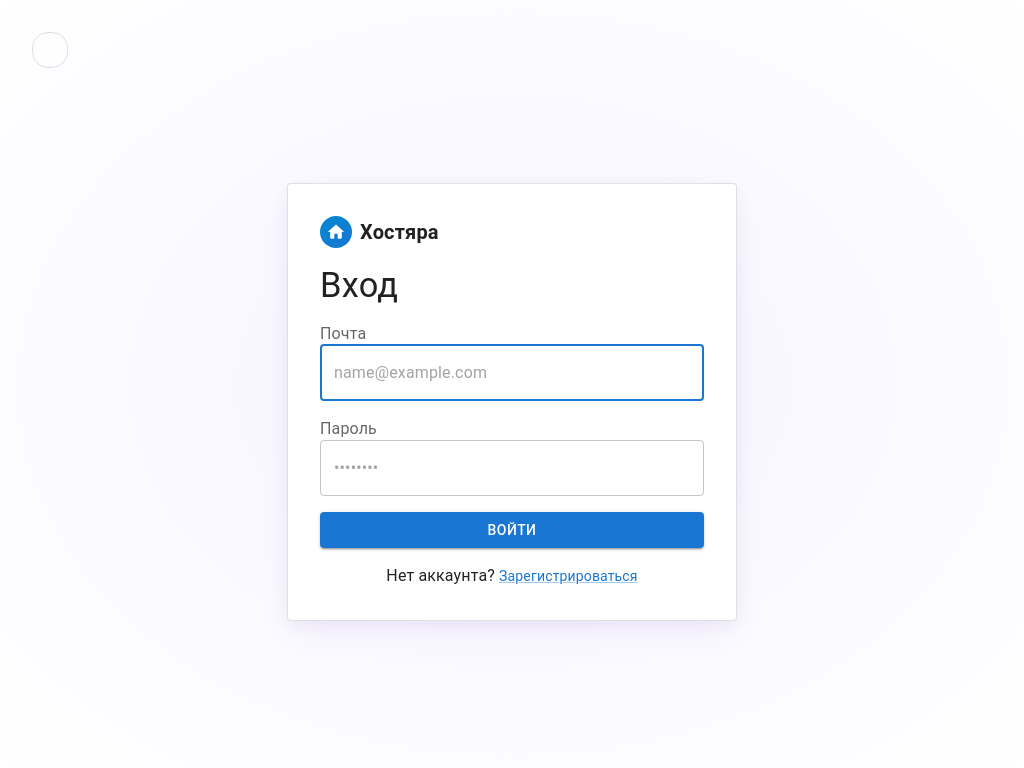
Test: SessionGate › logs in and lands in the first household
Type "anna@example.com" into the field labelled "Почта" at (512, 373), box [320,345,704,401]
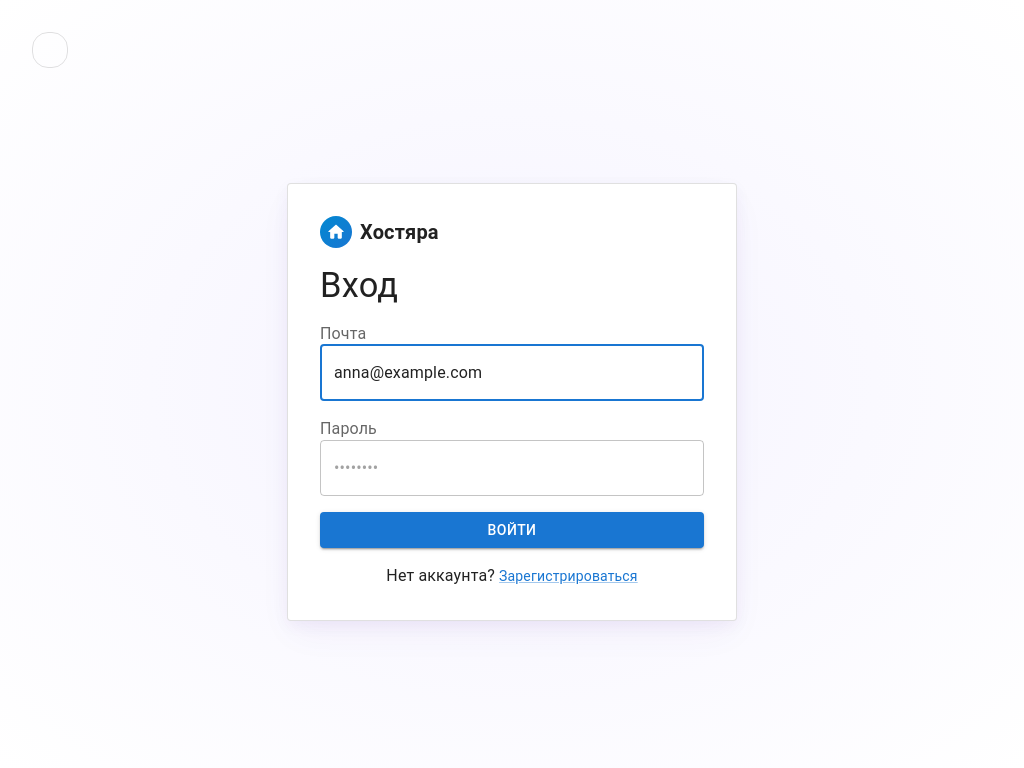
Type "correct-horse" into the password field labelled "Пароль" at (512, 468), box [320,440,704,496]
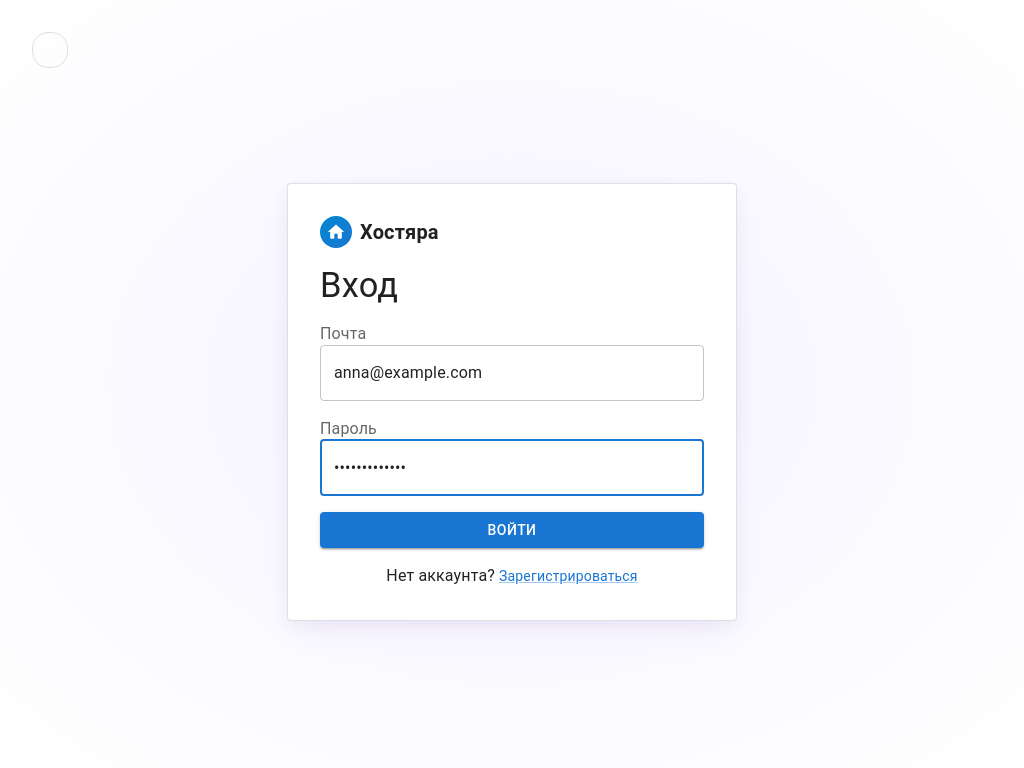
Click the button "Войти" at (512, 530), box [320,512,704,548]
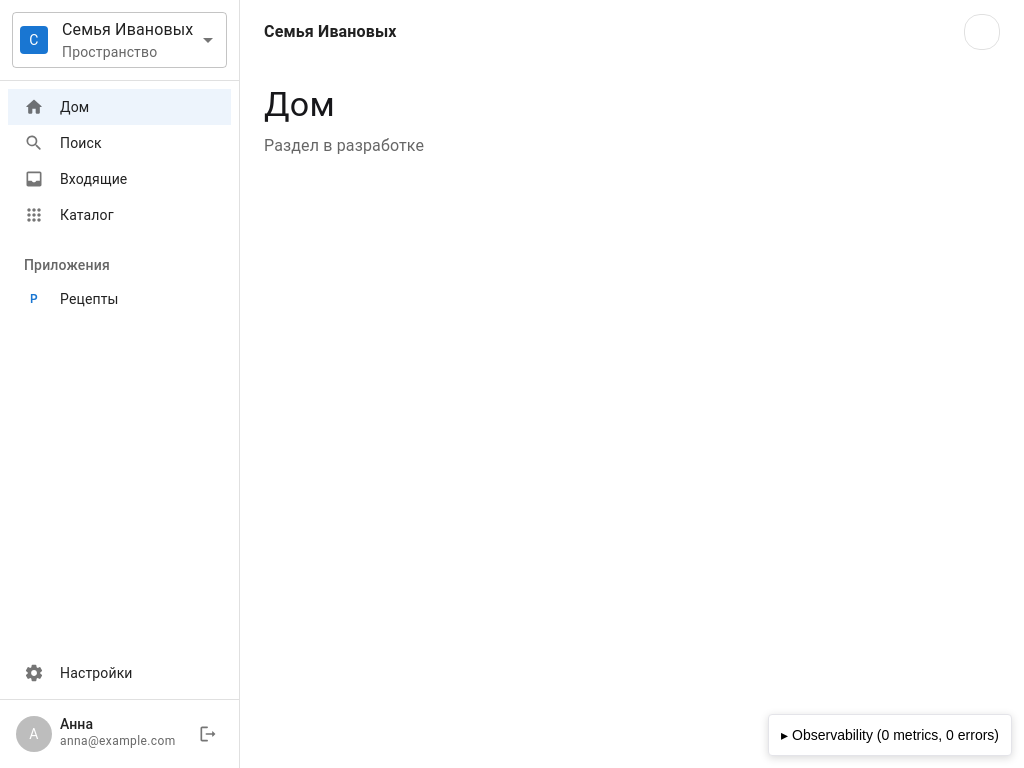
Check: the link "Р Рецепты" is shown, box [30,291,119,307]
